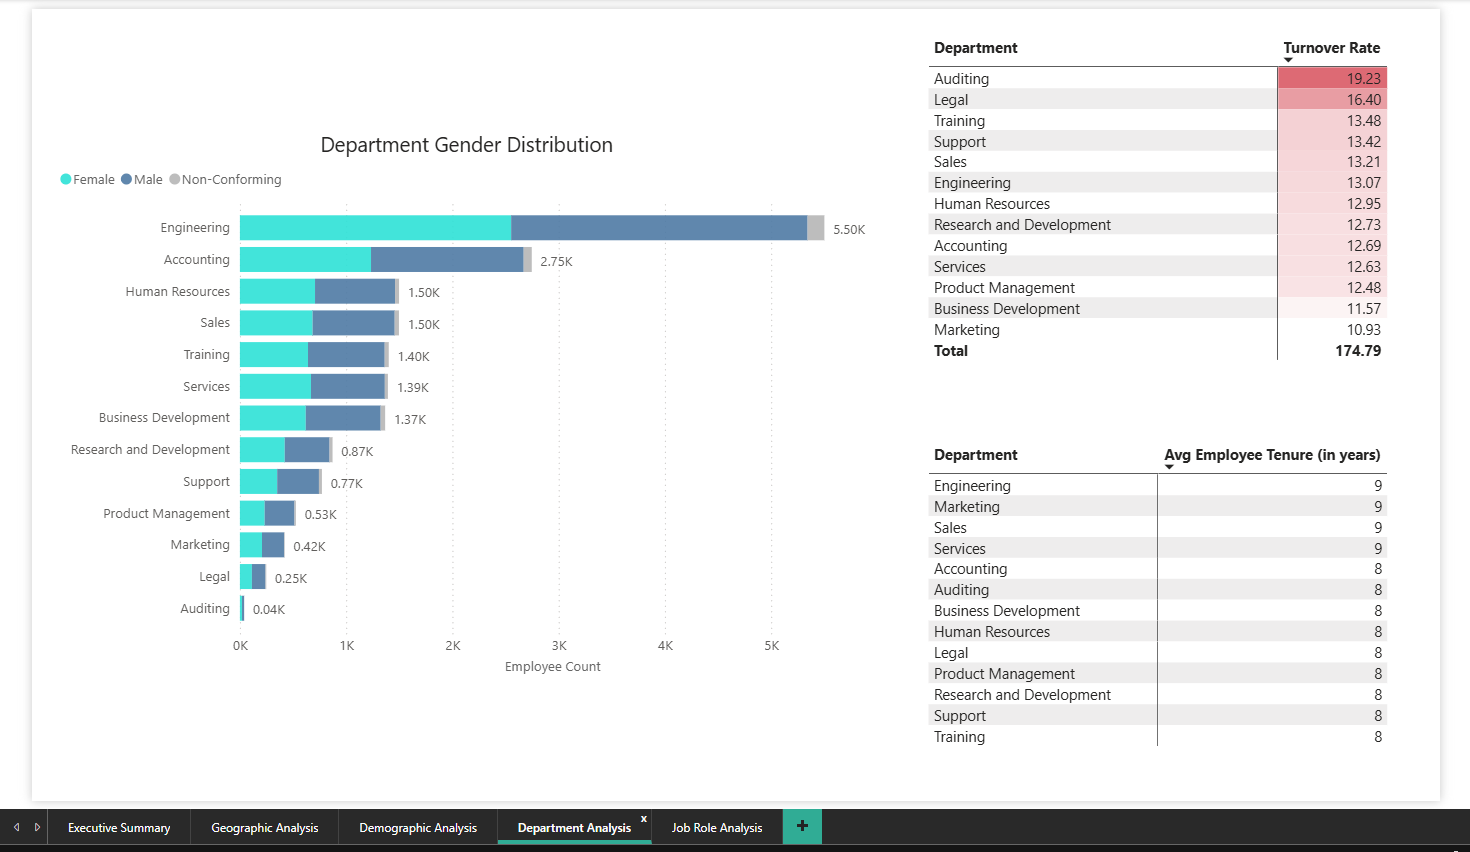

What the dashboard file says about the page in this screenshot:
{"tool":"powerbi","page":{"name":"Department Analysis","canvas":[1280,720],"ordinal":3},"visuals":[{"type":"barChart","title":"Department Gender Distribution","fields":{"Category":["department_gender_distribution.department"],"Series":["department_gender_distribution.gender"],"Y":["Sum(department_gender_distribution.employee_count)"]},"box":[20,110,750,500],"z":0},{"type":"pivotTable","fields":{"Rows":["department_turnover_rate.department"],"Values":["Sum(department_turnover_rate.turnover_rate)"]},"box":[810,20,450,310],"z":1000},{"type":"pivotTable","fields":{"Rows":["average_employee_tenure_by_department.department"],"Values":["Sum(average_employee_tenure_by_department.avg_employee_tenure)"]},"box":[810,390,450,310],"z":2000}]}

Visuals, with their boxes on the page's 1280x720 design canvas (x1, y1, x2, y2). These are canvas units, not pixel positions in the 1470x852 screenshot, which may show the page scaled, cropped or inside an application window:
"Department Gender Distribution" barChart: box(20, 110, 770, 610)
pivotTable - department_turnover_rate.department x Sum(department_turnover_rate.turnover_rate): box(810, 20, 1260, 330)
pivotTable - average_employee_tenure_by_department.department x Sum(average_employee_tenure_by_department.avg_employee_tenure): box(810, 390, 1260, 700)
